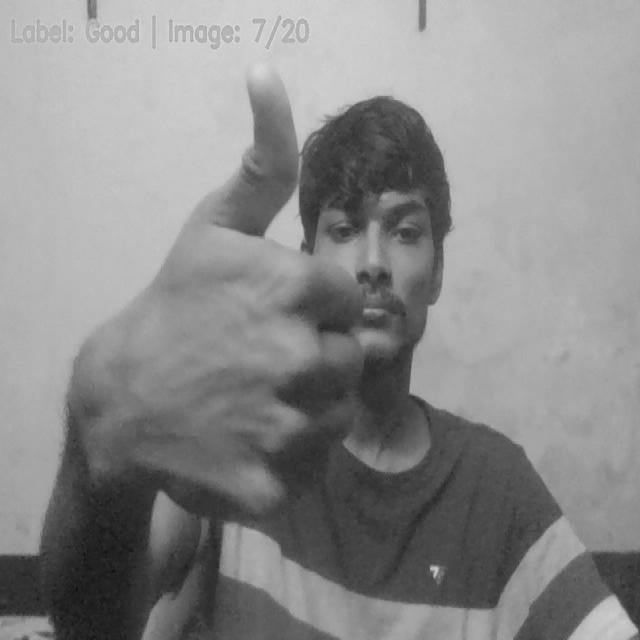Good: (102, 64, 366, 516)
